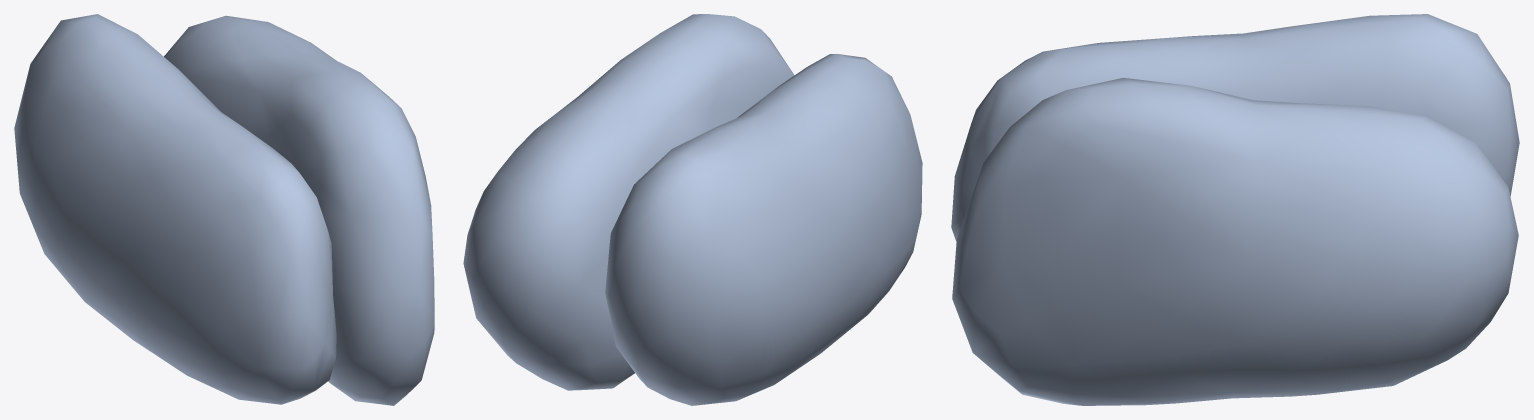
3 views of the same model, side by side, from view 1: azimuth 30°, elevation 25°; view 2: azimuth 150°, elevation 25°; view 3: azimuth 270°, elevation 25° (orthographic). The views are drawn at different scales.
Visible parts, largest first — view 1: 左侧筛骨中群小房; view 2: 左侧筛骨中群小房; view 3: 左侧筛骨中群小房.
Part boxes in pixels (box(x1,y1,x2,y2)): 左侧筛骨中群小房: box(14, 14, 434, 405); 左侧筛骨中群小房: box(463, 14, 922, 405); 左侧筛骨中群小房: box(951, 14, 1519, 405).
Bounding box in the file's own units: 0.0133 × 0.0123 × 0.0197.
